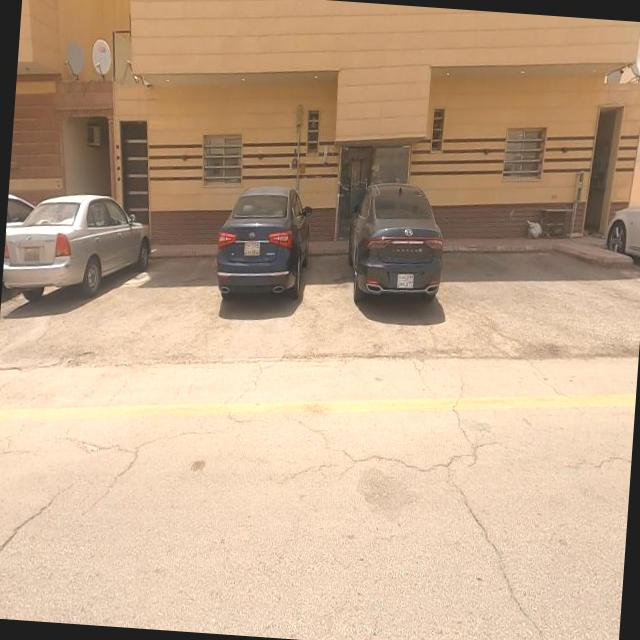debris: (508, 200, 564, 266)
